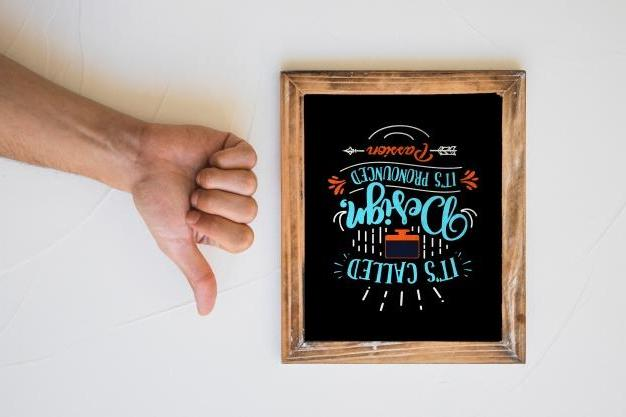thumbsdown: (173, 142, 258, 316)
